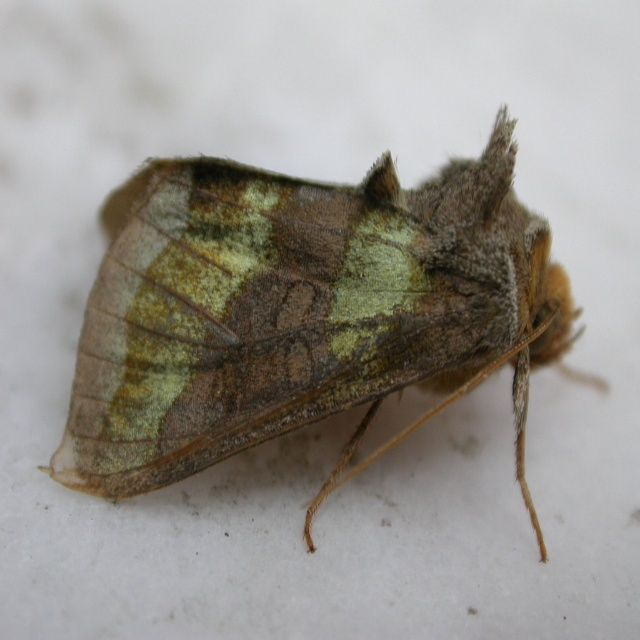Moths and butterflies: (38, 100, 614, 567)
